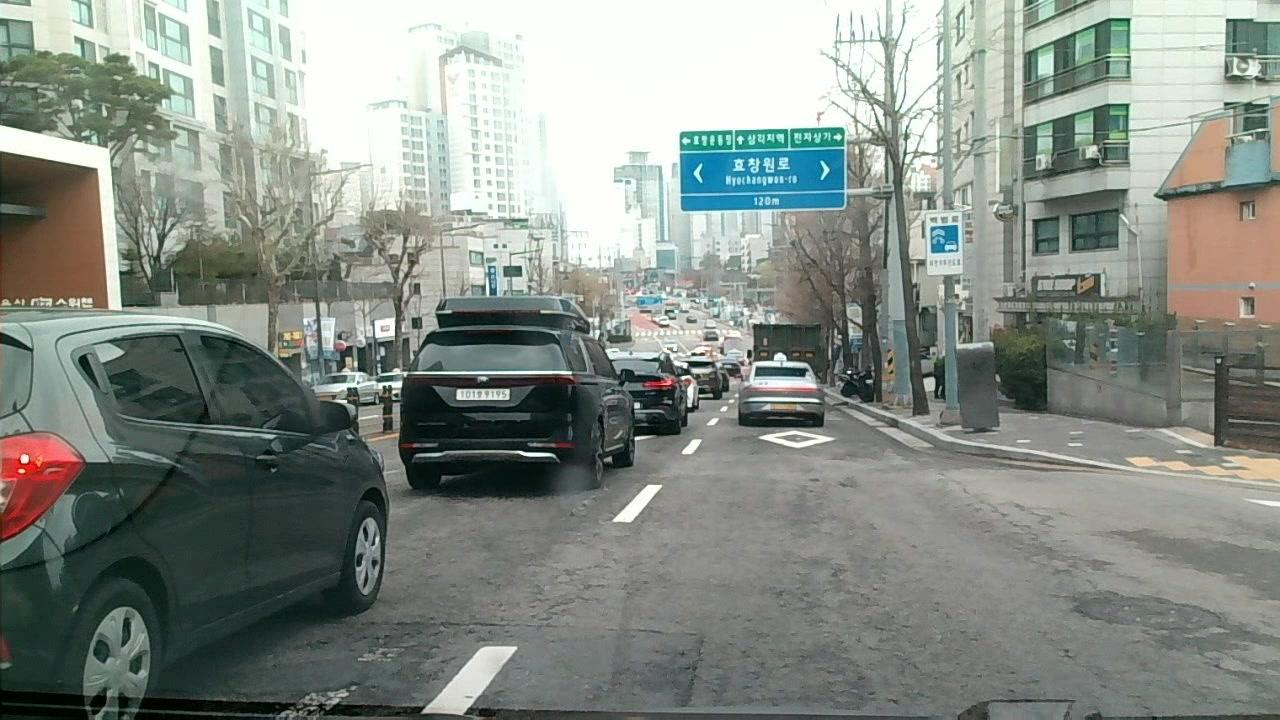erosion: (705, 496, 987, 720)
hcrack: (351, 618, 664, 638)
vcrack: (938, 470, 1050, 548), (535, 545, 622, 621), (681, 631, 710, 714)
